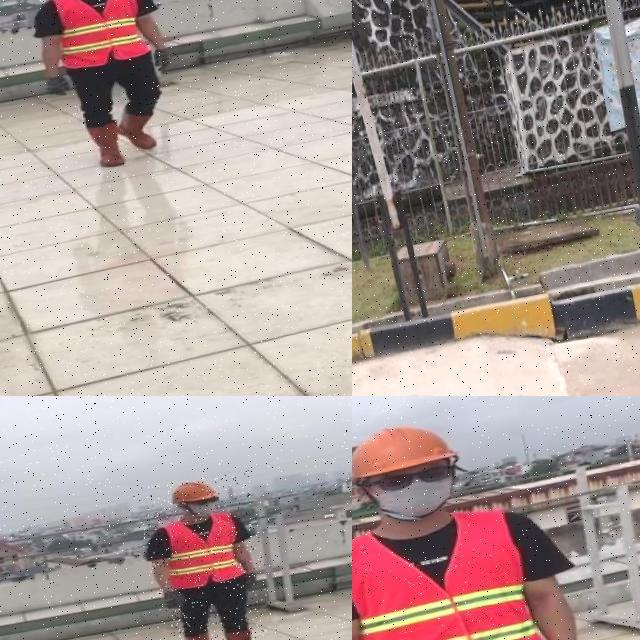boots: (80, 120, 126, 172), (114, 105, 160, 154), (222, 623, 270, 640), (181, 629, 217, 640)
helmet: (352, 411, 467, 487), (164, 476, 222, 506)
vest: (352, 505, 552, 640), (50, 0, 153, 70), (162, 510, 246, 590)
